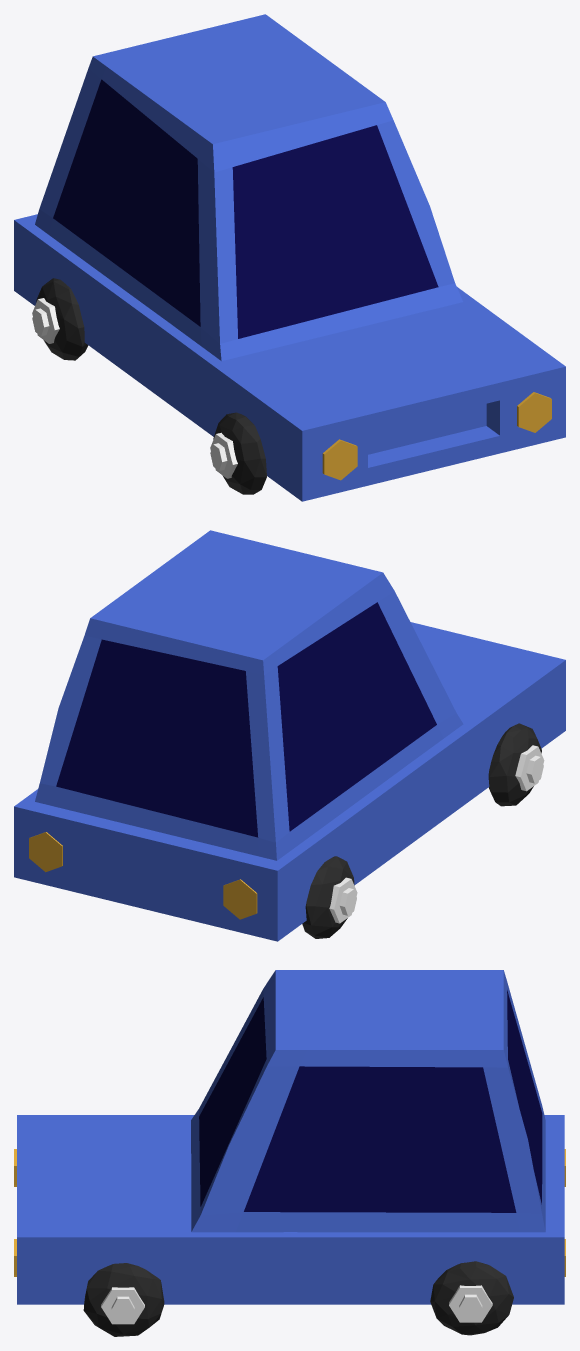
The model's file is FeelSquashAndStretchCar.fbx.
3 renders of one model, top to bottom at view 1: azimuth 30°, elevation 25°; view 2: azimuth 150°, elevation 25°; view 3: azimuth 270°, elevation 25°, orthographic. The views are drawn at different scales.
Visible parts, largest first — view 1: CarBody, CarWheels, CarHeadlights, CarWheelsInside; view 2: CarBody, CarWheels, CarHeadlights, CarWheelsInside; view 3: CarBody, CarWheels, CarWheelsInside.
Part boxes in pixels (x1,y1,x2,y2): CarBody: [14, 14, 565, 501]; CarWheels: [36, 278, 266, 494]; CarHeadlights: [322, 392, 551, 480]; CarWheelsInside: [32, 298, 237, 478]; CarBody: [14, 530, 565, 941]; CarWheels: [302, 723, 541, 938]; CarHeadlights: [29, 832, 257, 919]; CarWheelsInside: [329, 745, 544, 923]; CarBody: [17, 970, 564, 1304]; CarWheels: [83, 1261, 513, 1336]; CarWheelsInside: [101, 1285, 492, 1324].
Size of the model in its own units: 345 by 288 by 544.
